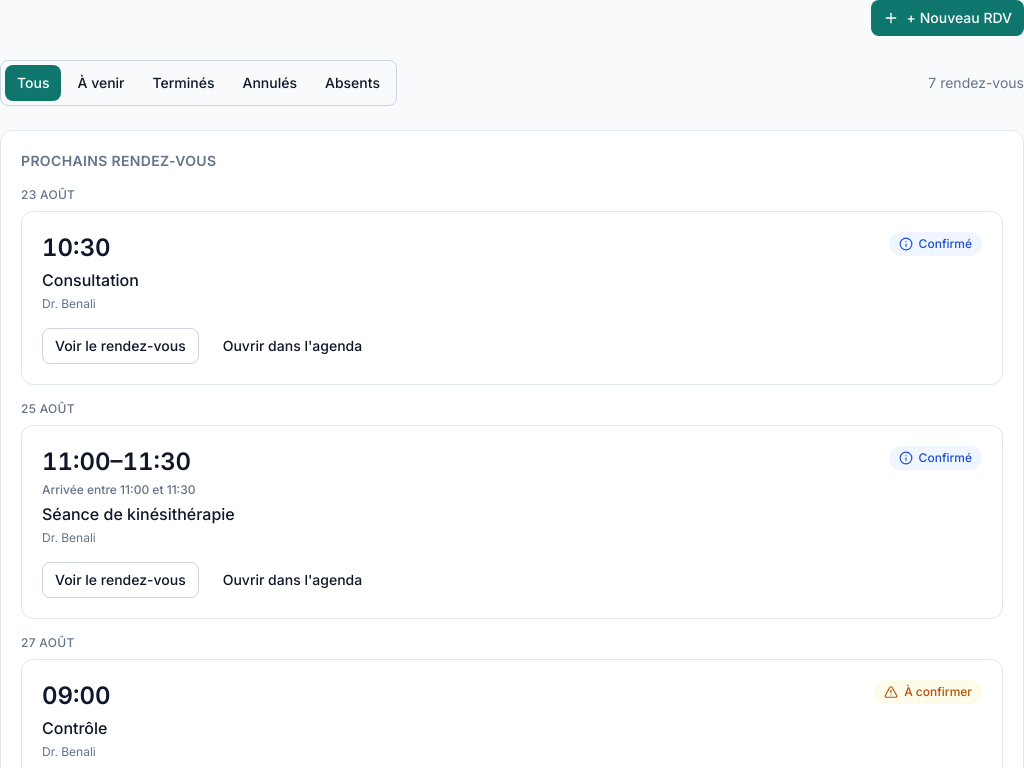
Test: PatientAppointmentsContent › opens the shared appointment drawer on interaction (14)
Click the button "Voir le rendez-vous" below "10:30": (120, 346) [42,328,199,364]
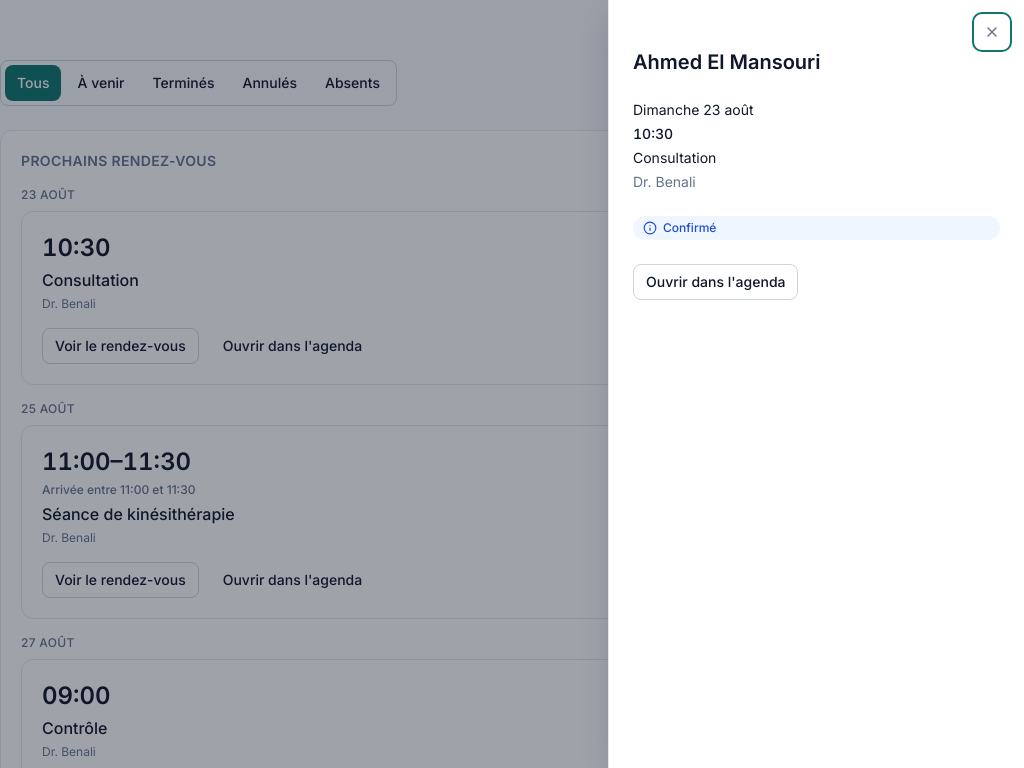
Check: the dialog is shown, box [608,0,1023,767]
